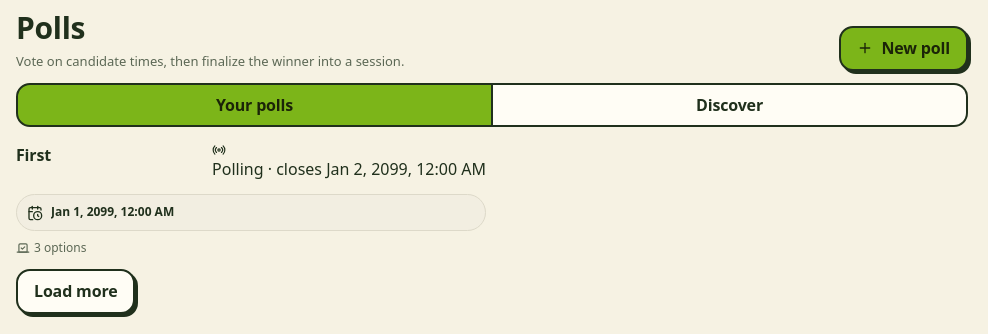
Test: PollListPage › resets pagination when switching bands
Expected: the heading "First" is shown, [16,143,51,167]
Click the button "Load more" at point(76, 292), box [16,269,136,314]
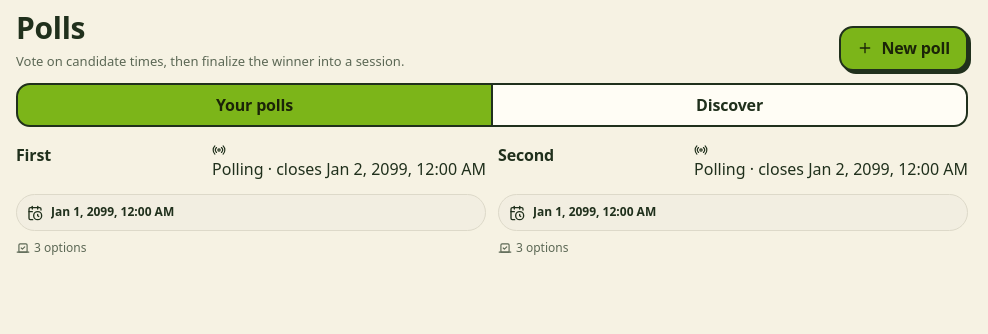
Expected: the heading "Second" is shown, [498,143,554,167]
Click the tab "Discover" at point(730, 105), box [493,83,968,127]
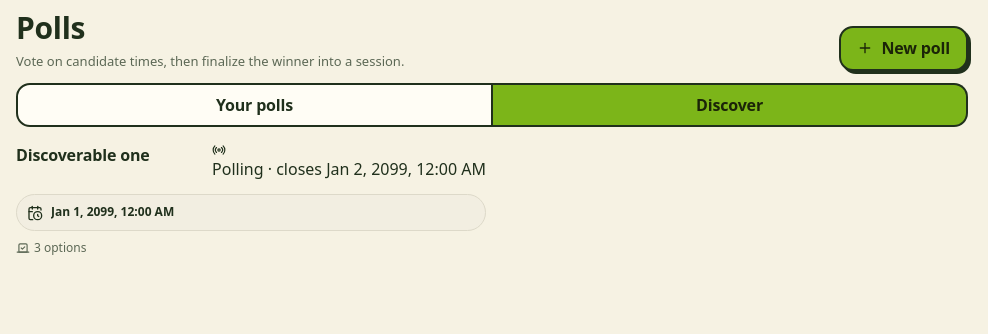
Expected: the heading "Discoverable one" is shown, [16,143,150,167]
Click the tab "Your polls" at point(254, 105), box [16,83,493,127]
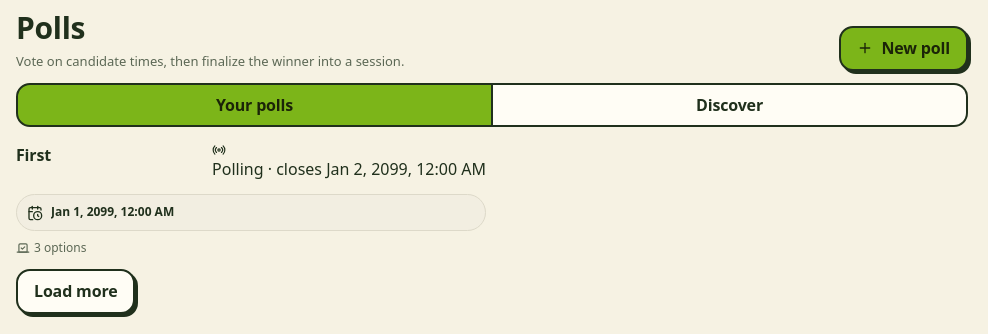
Expected: the link "Second" is not shown
Expected: the heading "First" is shown, [16,143,51,167]
